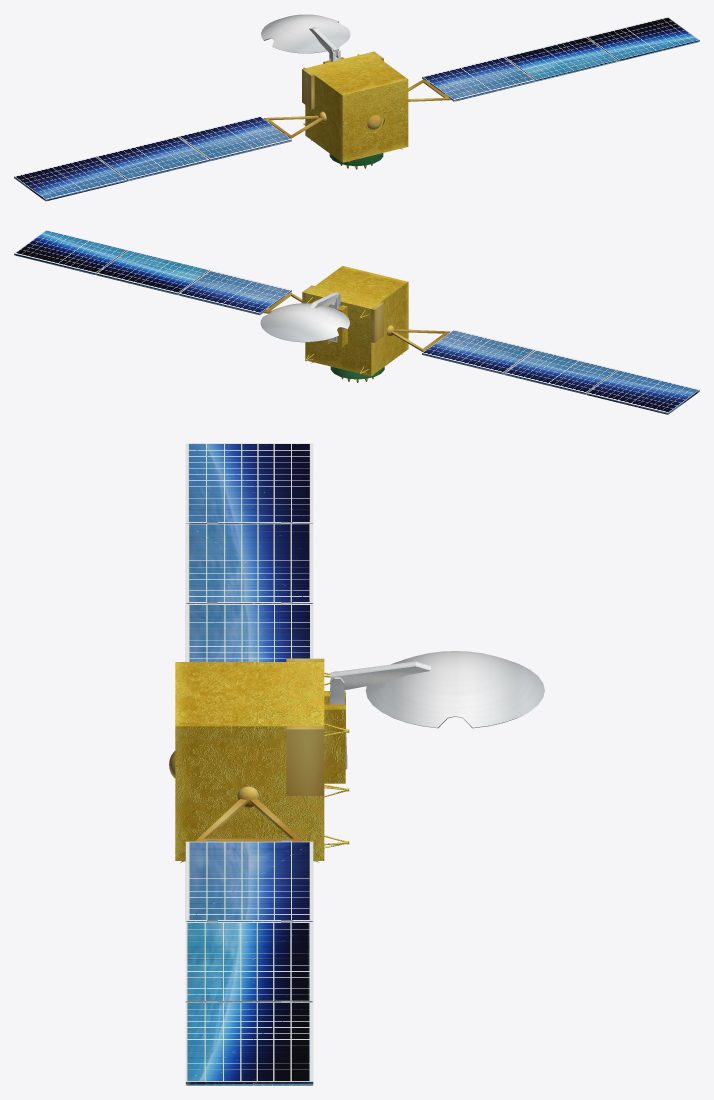
3 renders of one model, top to bottom at view 1: azimuth 30°, elevation 25°; view 2: azimuth 150°, elevation 25°; view 3: azimuth 270°, elevation 25°, orthographic. The views are drawn at different scales.
Visible parts, largest first — view 1: object 18, object 19, ZX11_13, ZX11_08, ZX11_10, ZX11_12, ZX11_15, ZX11_14, ZX11_09, ZX11_11, object 20, ZX11_16; view 2: object 18, object 19, ZX11_13, ZX11_08, ZX11_10, ZX11_14, ZX11_15, ZX11_12, ZX11_09, ZX11_11, object 20; view 3: object 18, object 19, ZX11_10, ZX11_13, ZX11_08, ZX11_15, ZX11_14, ZX11_12, ZX11_09, ZX11_16.
Boxes of the visible parts, x1,y1,x2,y2 form: object 18: (303,52,408,162); object 19: (261,14,350,61); ZX11_13: (14,156,127,201); ZX11_08: (422,57,535,101); ZX11_10: (586,16,699,61); ZX11_12: (178,116,291,161); ZX11_15: (504,36,617,81); ZX11_14: (96,136,209,181); ZX11_09: (302,51,383,129); ZX11_11: (263,111,326,138); object 20: (329,153,383,166); ZX11_16: (408,79,450,101); object 18: (305,266,408,376); object 19: (260,292,349,342); ZX11_13: (586,370,699,414); ZX11_08: (178,270,291,315); ZX11_10: (14,230,127,274); ZX11_14: (504,349,617,394); ZX11_15: (96,250,209,295); ZX11_12: (422,329,535,374); ZX11_09: (302,285,383,342); ZX11_11: (387,325,450,351); object 20: (330,366,384,379); object 18: (175,662,349,860); object 19: (329,651,544,769); ZX11_10: (185,1002,313,1085); ZX11_13: (185,443,313,523); ZX11_08: (185,841,313,921); ZX11_15: (185,922,313,1002); ZX11_14: (185,523,313,603); ZX11_12: (185,604,313,661); ZX11_09: (169,658,324,795); ZX11_16: (195,786,302,841).
Bounding box in the file's own units: 48.79 × 7.34 × 12.14.
7 materials, 7 textured.
